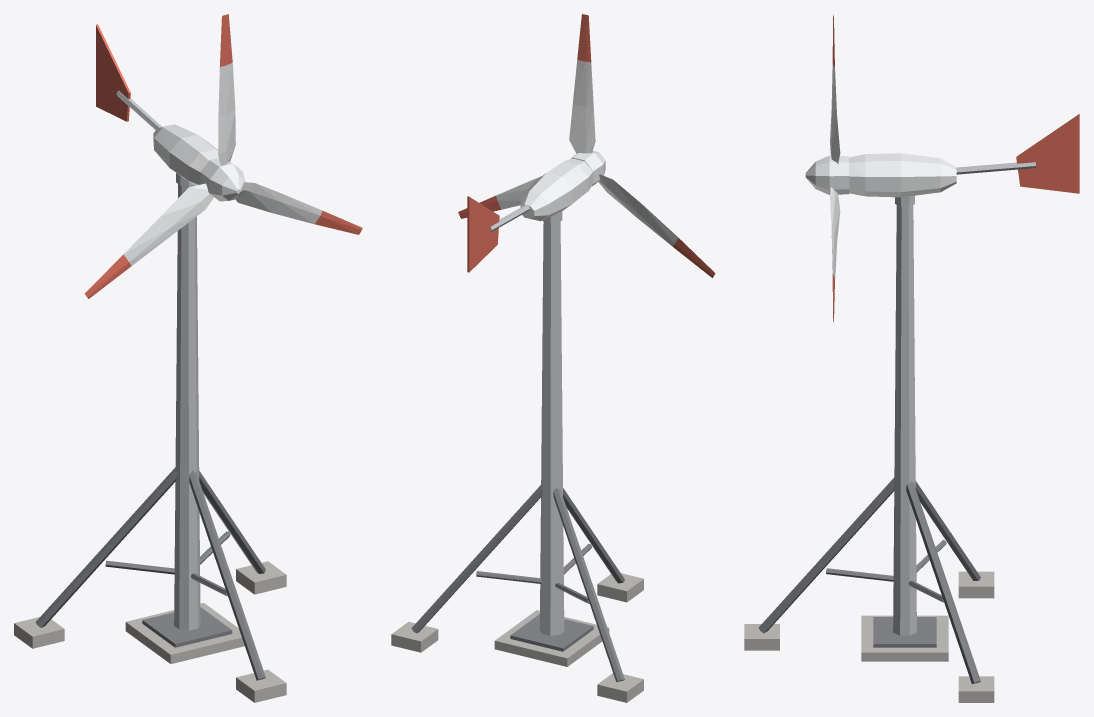
File: wind_turbine.glb
3 views of the same model, side by side, from view 1: azimuth 30°, elevation 25°; view 2: azimuth 150°, elevation 25°; view 3: azimuth 270°, elevation 25° (orthographic). The views are drawn at different scales.
Visible parts, largest first — view 1: Tower, Rotor, Head; view 2: Tower, Rotor, Head; view 3: Tower, Head, Rotor.
Part boxes in pixels (<box>): Tower: <box>14,184,286,702</box>; Rotor: <box>84,14,362,298</box>; Head: <box>96,24,218,186</box>; Tower: <box>391,222,643,702</box>; Rotor: <box>458,14,715,277</box>; Head: <box>467,158,593,272</box>; Tower: <box>744,205,994,702</box>; Head: <box>849,114,1079,206</box>; Rotor: <box>805,14,849,322</box>.
Bounding box in the file's own units: 1.56 × 3.49 × 1.69.
